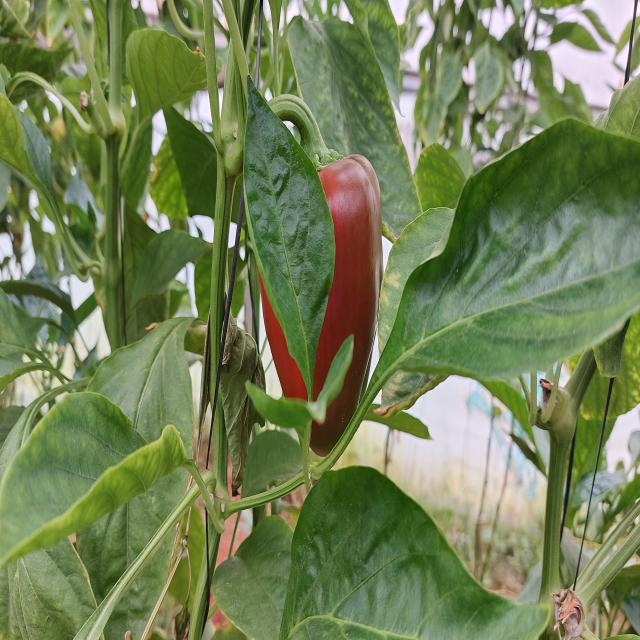Red-Ready-to-Harvest: (253, 162, 394, 450)
